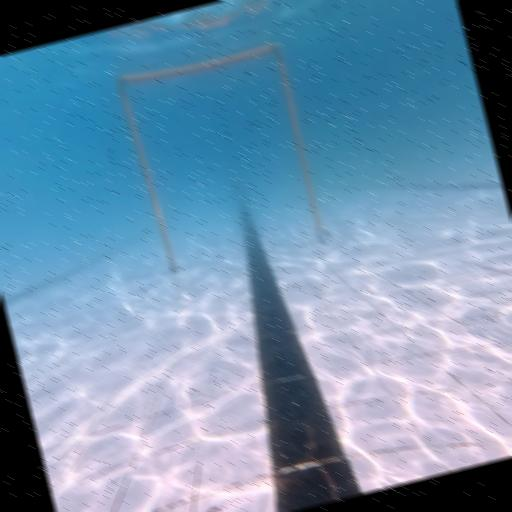gate: (115, 36, 331, 277)
